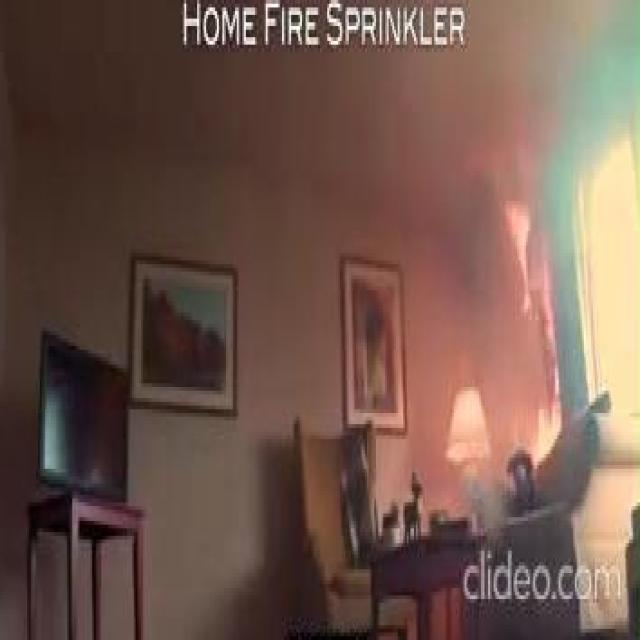smoke: (497, 182, 537, 312), (538, 264, 558, 387), (535, 383, 562, 469)
